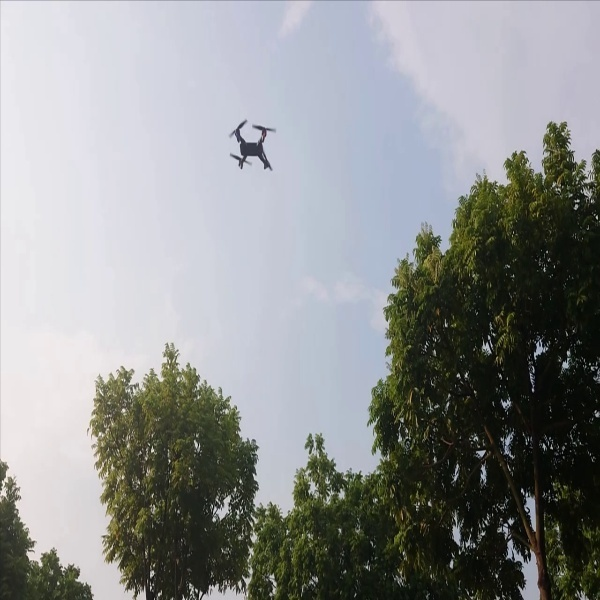drone: (216, 108, 278, 185)
